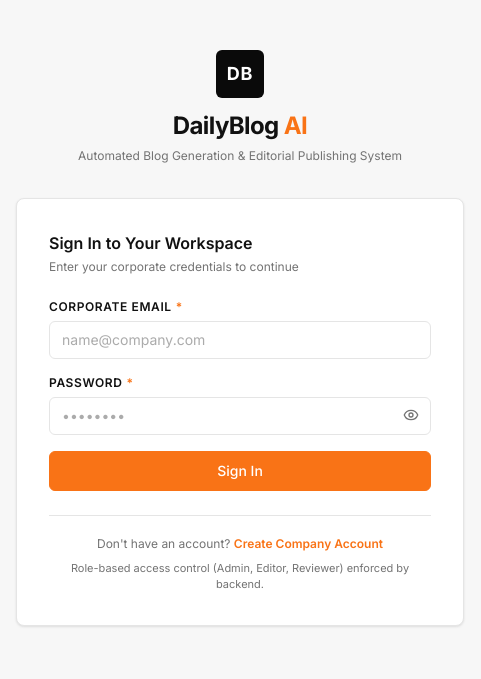
Test case: LoginPage & Authentication › displays error message when login fails with 401
Type "wrong@company.com" into the field with placeholder "name@company.com" at x=240, y=340, box [49,321,431,359]
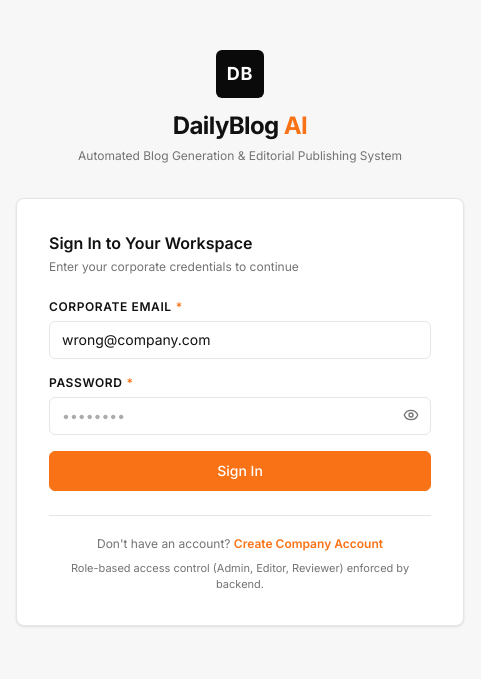
Type "BadPass" into the password field with placeholder "••••••••" at x=240, y=416, box [49,397,431,435]
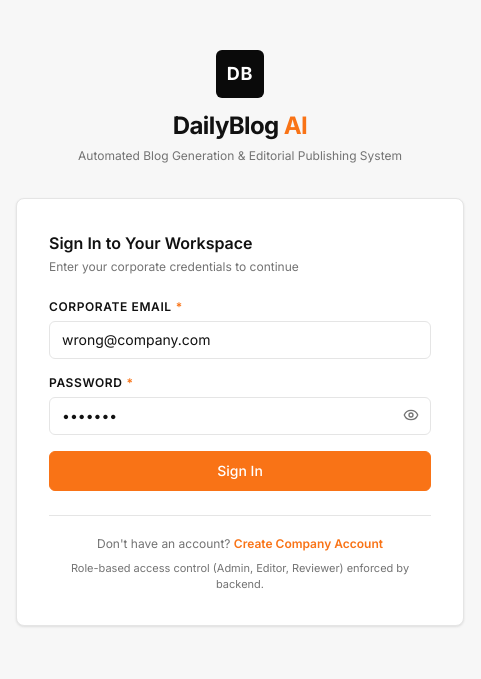
Click the button "Sign In" at x=240, y=471, box [49,451,431,491]
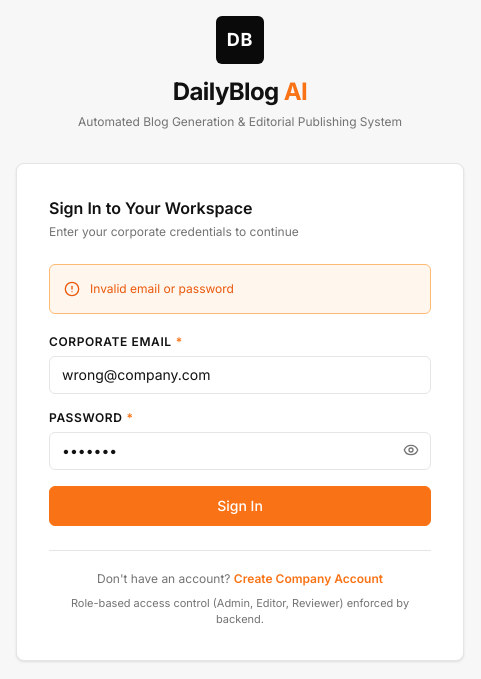
Result: the text "Invalid email or password" is shown at [90,279,234,298]
